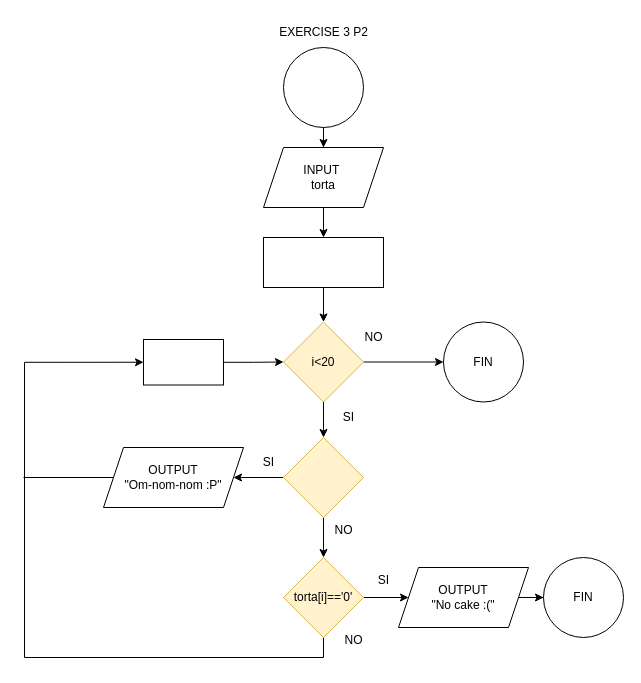
This 641x683 diagram has some shape labels left out. Each missing label, with the box of its shape:
++i: (142, 338, 224, 385)
i=0: (262, 236, 384, 288)
INICIO: (282, 46, 364, 128)
torta[i]=='1': (282, 436, 364, 518)
